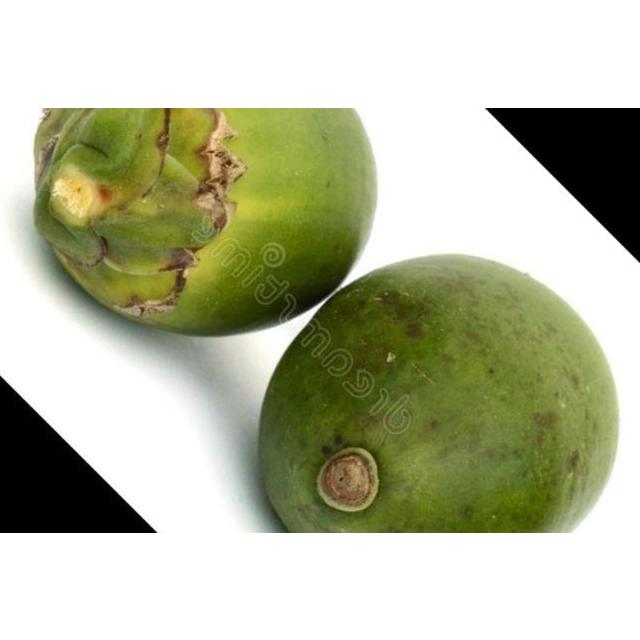good: (256, 253, 622, 532), (30, 107, 380, 338)
